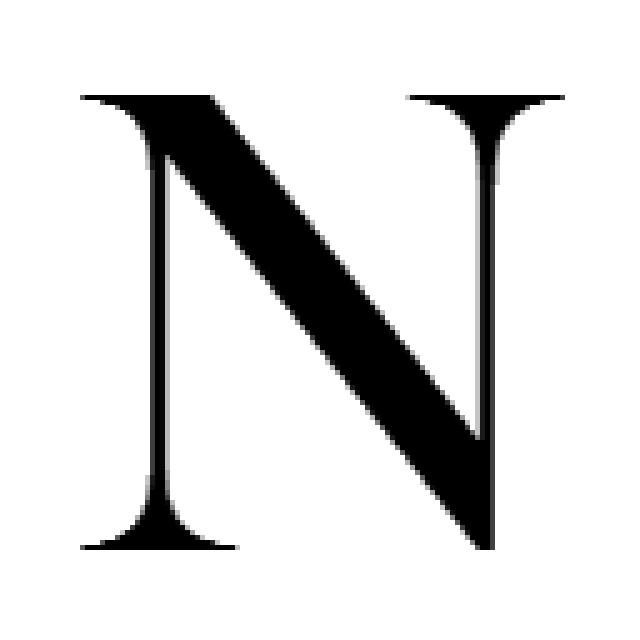N: (76, 95, 560, 552)
